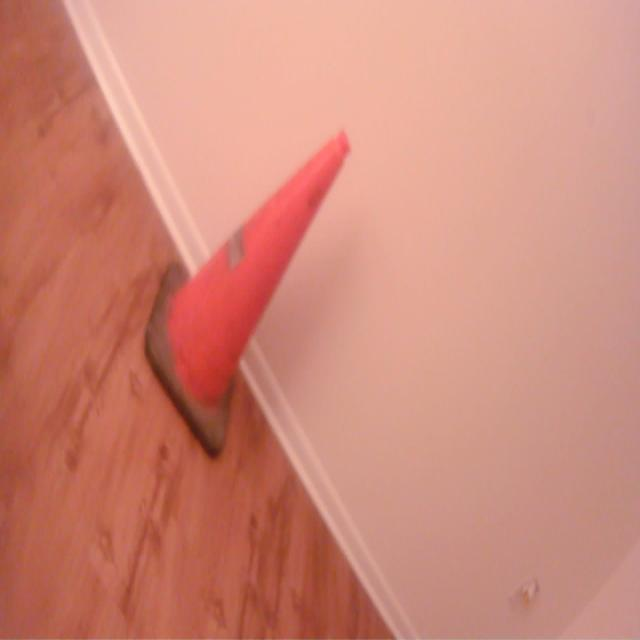traffic cone: (141, 120, 354, 467)
